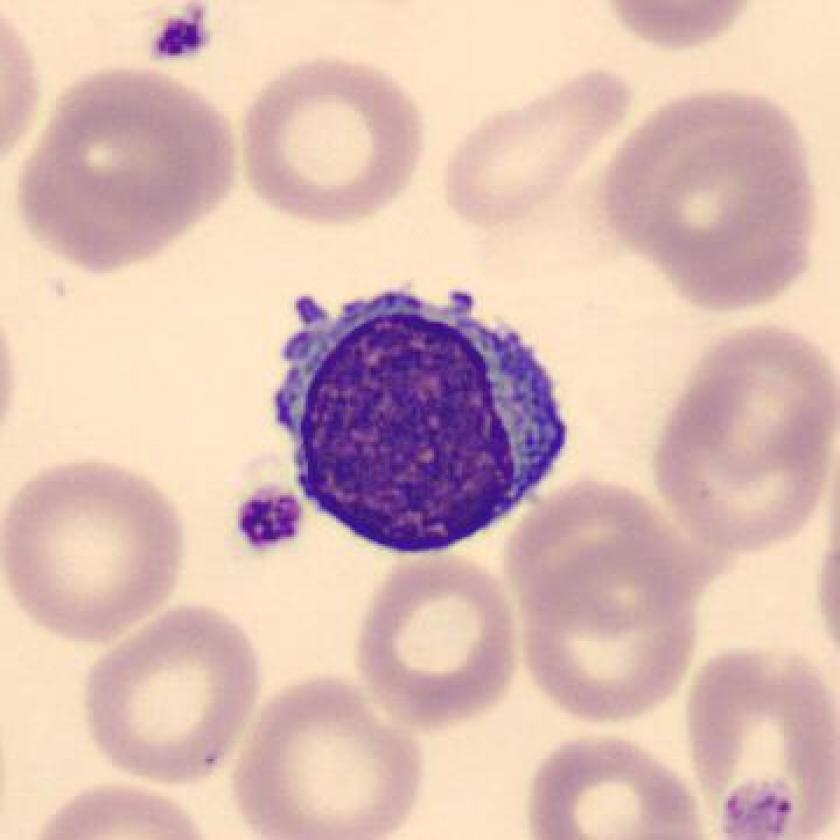lymphocyte: (253, 265, 584, 570)
